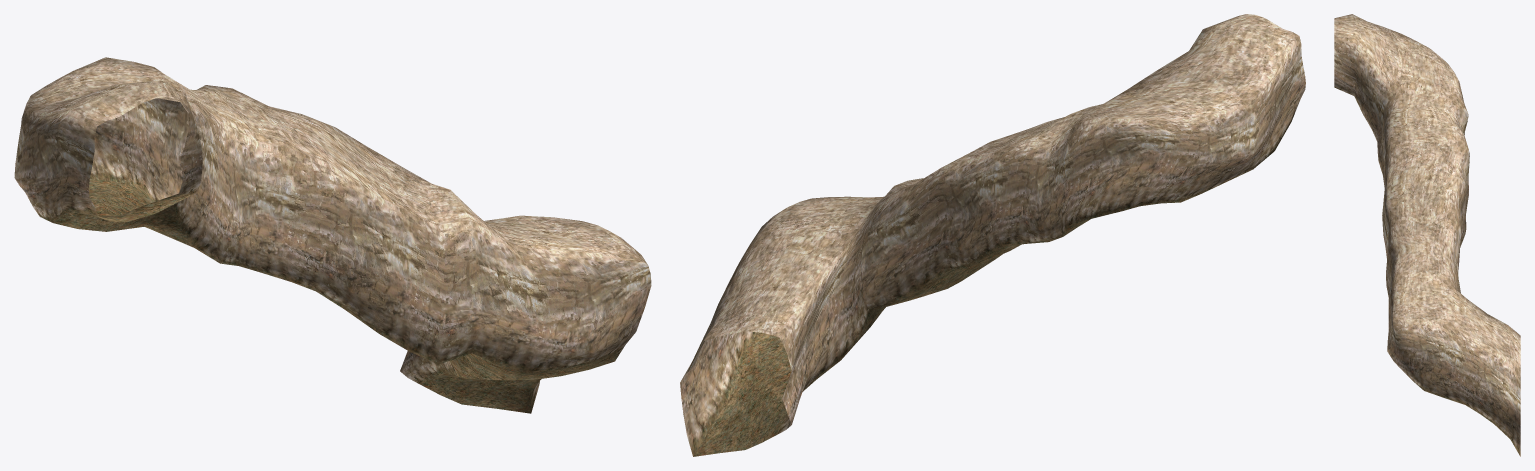
The model's file is thm_all_cave_flatland_s02_r1_mesh_r1.fbx.
3 renders of one model, left to right at view 1: azimuth 30°, elevation 25°; view 2: azimuth 150°, elevation 25°; view 3: azimuth 270°, elevation 25°, orthographic. The views are drawn at different scales.
Visible parts, largest first — view 1: mesh_node; view 2: mesh_node; view 3: mesh_node.
Part boxes in pixels (bbox=[...]): mesh_node: bbox=[14, 57, 651, 413]; mesh_node: bbox=[680, 14, 1305, 456]; mesh_node: bbox=[1334, 14, 1520, 456].
Bounding box in the file's own units: 53.32 × 45.87 × 26.29.
